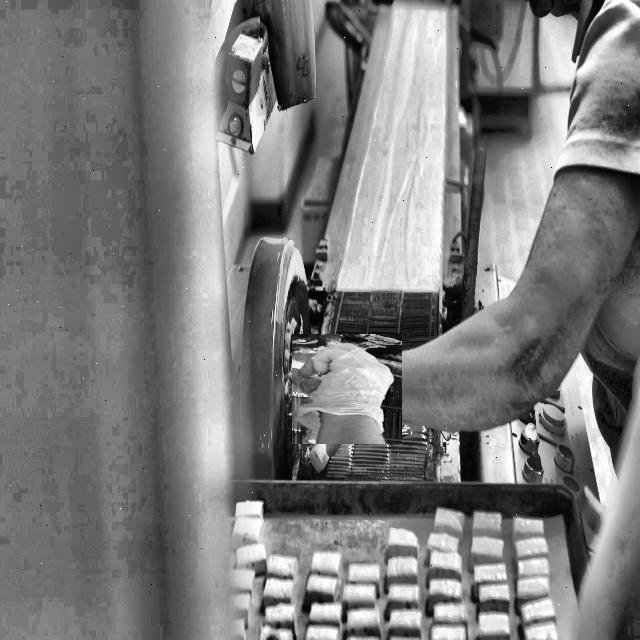gloved: (292, 334, 402, 444)
